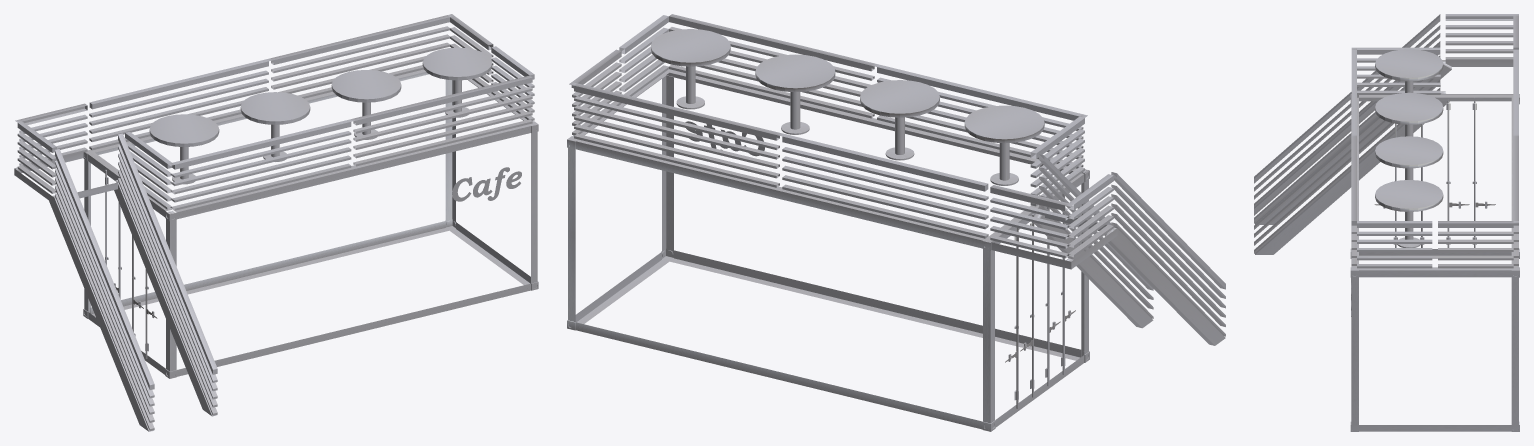
The model's file is estructuraB.obj.
3 views of the same model, side by side, from view 1: azimuth 30°, elevation 25°; view 2: azimuth 150°, elevation 25°; view 3: azimuth 270°, elevation 25° (orthographic). The views are drawn at different scales.
Parts seen in each view (by area): view 1: Container_cafe_Cube_000, table_set_4_Cube_004, table_set_3_Cube_003, table_set_2_Cube_002, table_set_1_Cube_014; view 2: Container_cafe_Cube_000, table_set_3_Cube_003, table_set_1_Cube_014, table_set_4_Cube_004, table_set_2_Cube_002; view 3: Container_cafe_Cube_000, table_set_4_Cube_004, table_set_3_Cube_003, table_set_2_Cube_002, table_set_1_Cube_014.
Boxes of the visible parts, <box> form: Container_cafe_Cube_000: <box>14,14,538,431</box>; table_set_4_Cube_004: <box>422,47,492,117</box>; table_set_3_Cube_003: <box>331,70,401,139</box>; table_set_2_Cube_002: <box>240,92,310,161</box>; table_set_1_Cube_014: <box>149,114,219,184</box>; Container_cafe_Cube_000: <box>567,14,1225,431</box>; table_set_3_Cube_003: <box>755,54,835,134</box>; table_set_1_Cube_014: <box>964,105,1044,185</box>; table_set_4_Cube_004: <box>651,29,730,109</box>; table_set_2_Cube_002: <box>860,80,939,160</box>; Container_cafe_Cube_000: <box>1254,14,1519,431</box>; table_set_4_Cube_004: <box>1375,180,1443,247</box>; table_set_3_Cube_003: <box>1375,136,1443,179</box>; table_set_2_Cube_002: <box>1375,92,1443,136</box>; table_set_1_Cube_014: <box>1375,49,1443,92</box>.
Size of the model in its own units: 7.23 by 3.42 by 3.87.
5 materials, 5 textured.
